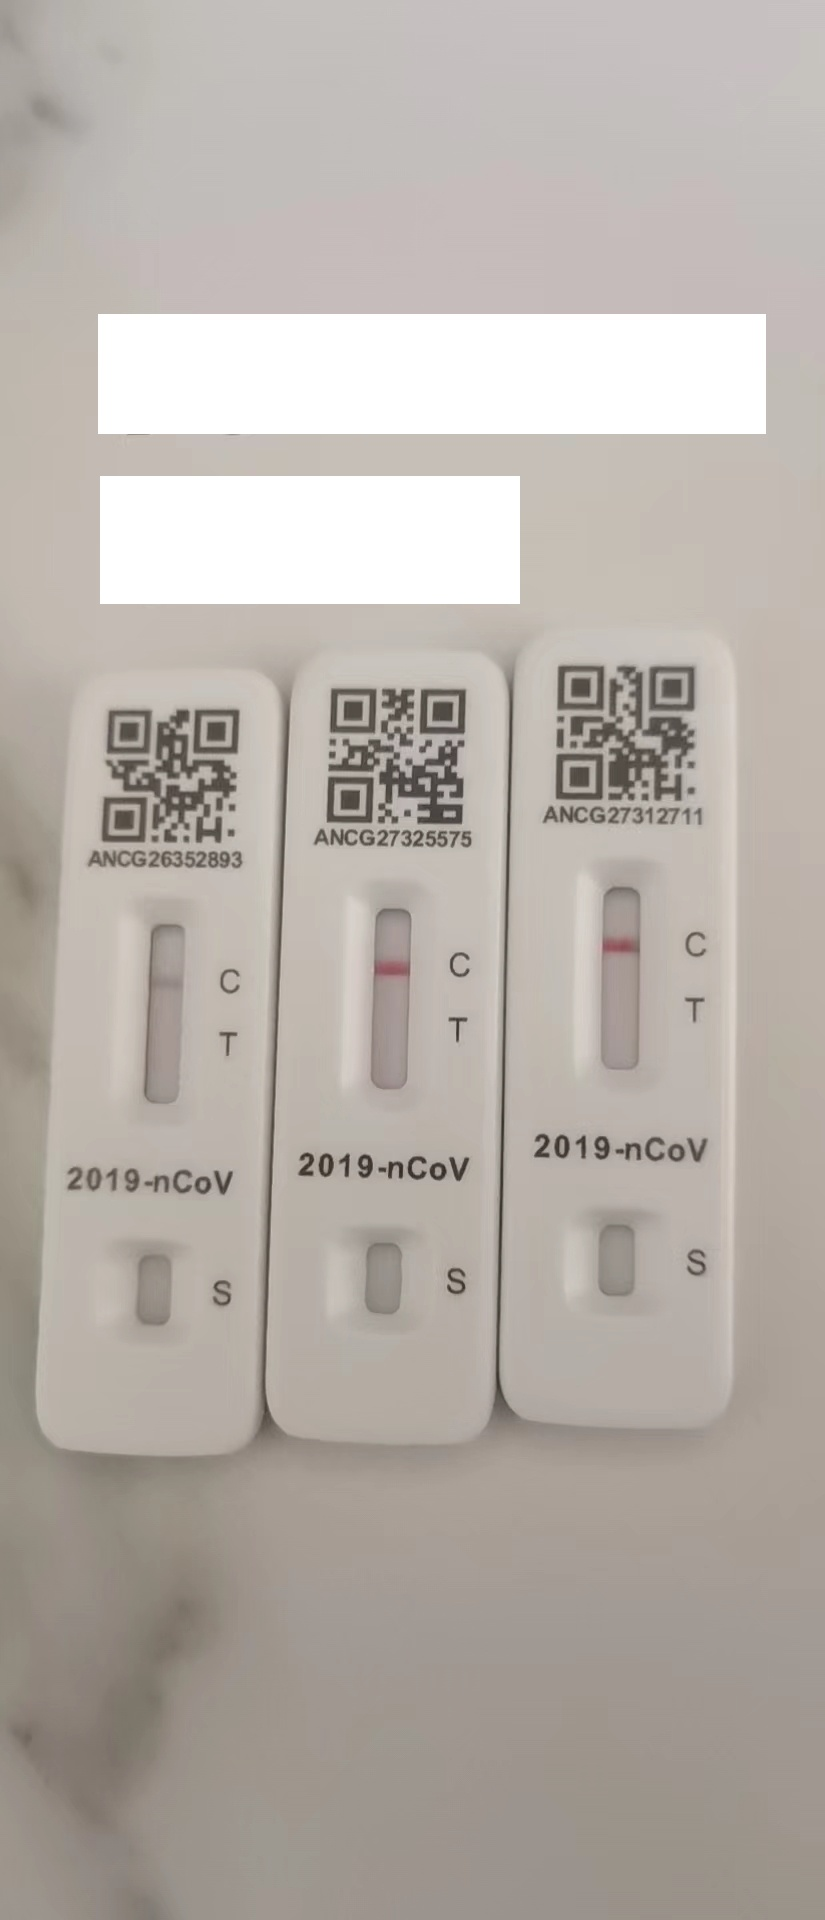negative: (579, 858, 663, 1079), (345, 887, 431, 1097), (121, 898, 201, 1120)
